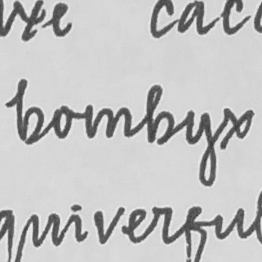b: (14, 76, 46, 145), (144, 83, 176, 146)
m: (82, 103, 133, 141)
o: (50, 103, 74, 141)
x: (219, 106, 256, 152)
y: (181, 107, 218, 189)
